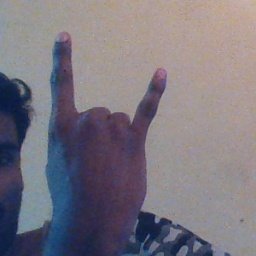V: (42, 29, 171, 229)
